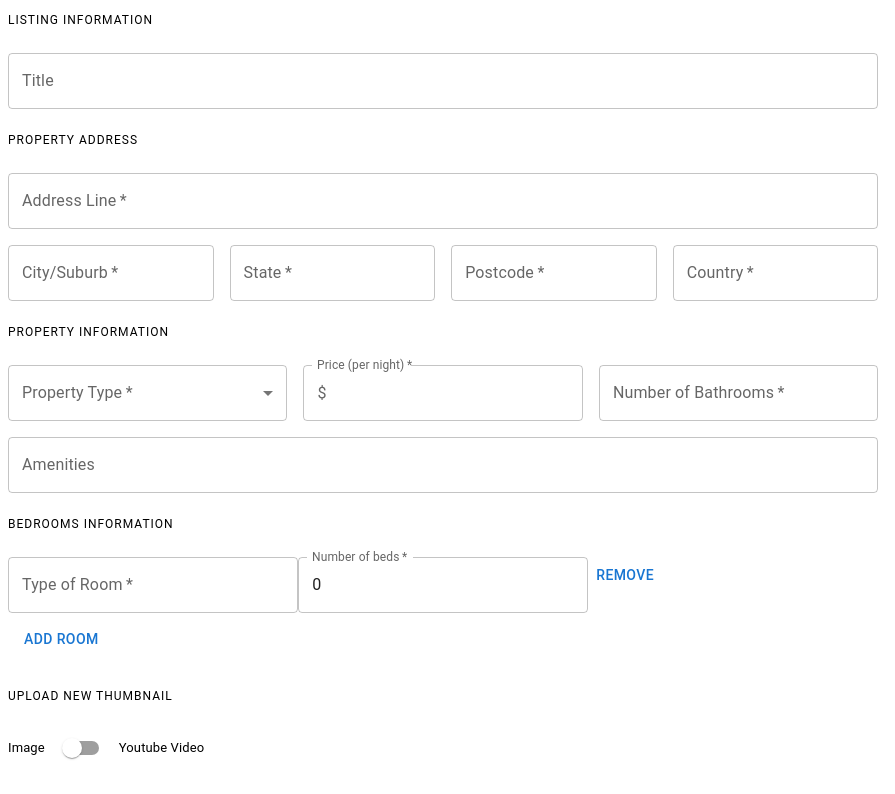
Test: <CreateDialog> › should change thumbnail input type when switch is clicked
# event to change the switch for thumbnail type
Step 1. Click the element with id "selectThumbnailType" → (80, 748), box [62, 738, 99, 758]
(page scrolled)
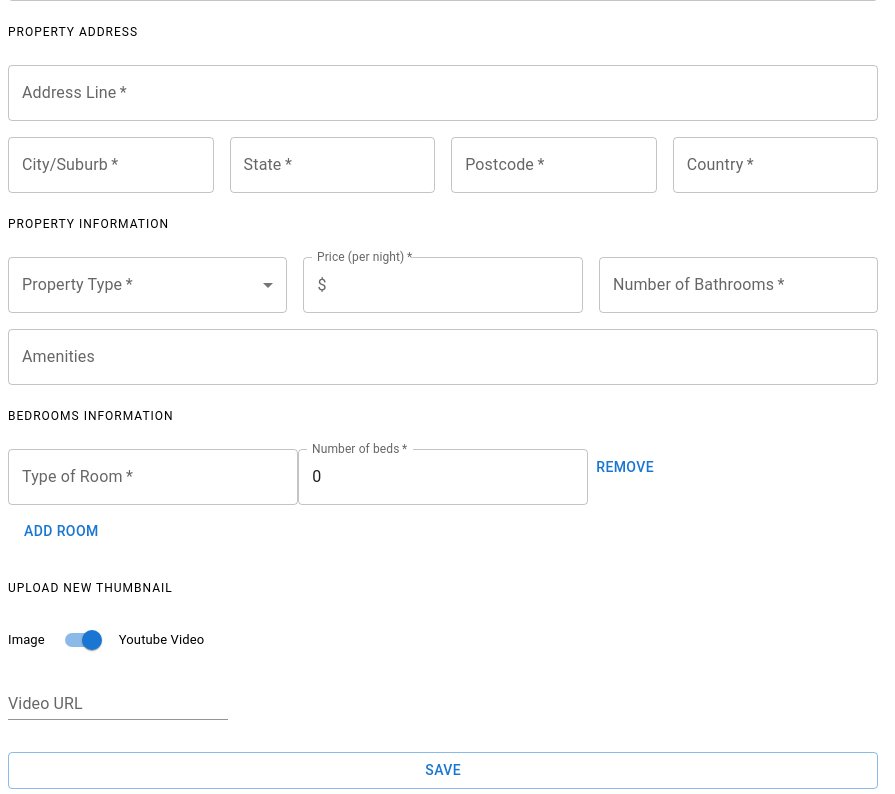
Check: the element with id "selectThumbnailType" is checked, box [65, 630, 102, 650]
Check: the number of elements with id "thumbnailUploadVideo" is 1, box [8, 675, 228, 720]
